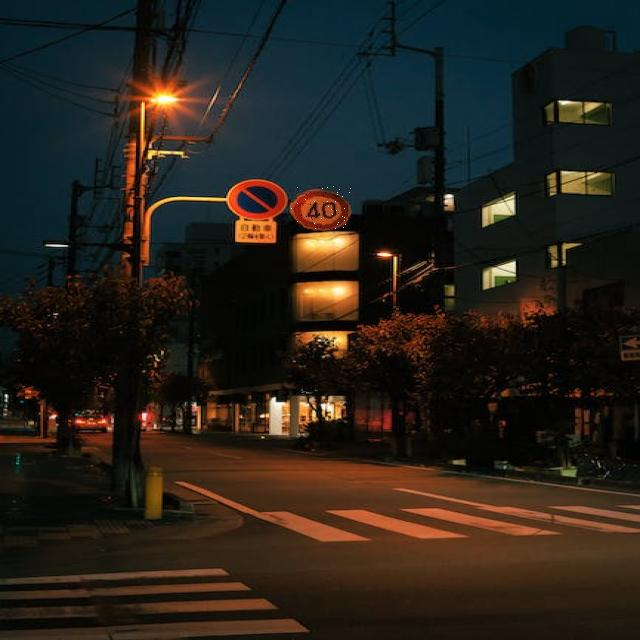speed limit 40: (291, 186, 352, 231)
